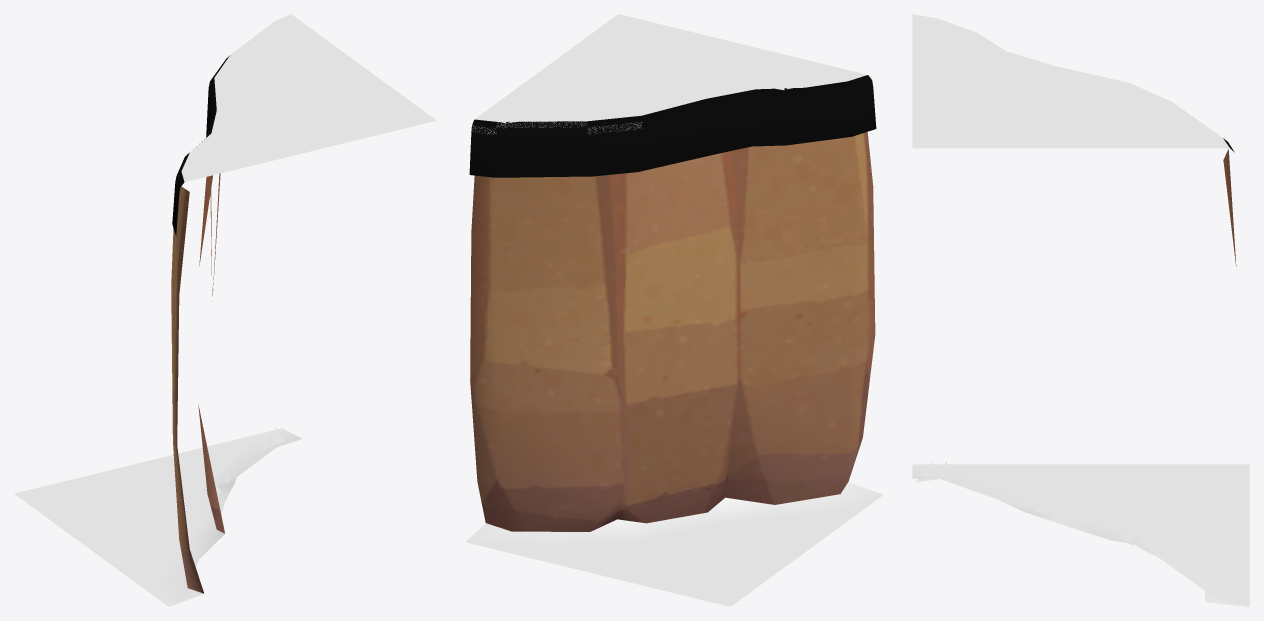
The picture shows the model from 3 angles, left to right: view 1: azimuth 30°, elevation 25°; view 2: azimuth 150°, elevation 25°; view 3: azimuth 270°, elevation 25°; orthographic projection. The views are drawn at different scales.
Visible parts, largest first — view 1: GrassT__mGrass, GrassB__mGrass, Cliff__mCliff, GrassOP__mGrassCliffXlu; view 2: Cliff__mCliff, GrassOP__mGrassCliffXlu, GrassB__mGrass, GrassT__mGrass; view 3: GrassT__mGrass, GrassB__mGrass, PGrassBD__mProcGrass.
Boxes of the visible parts, bbox=[...] form: GrassT__mGrass: bbox=[181, 14, 436, 181]; GrassB__mGrass: bbox=[14, 428, 302, 606]; Cliff__mCliff: bbox=[171, 173, 224, 593]; GrassOP__mGrassCliffXlu: bbox=[172, 55, 229, 236]; Cliff__mCliff: bbox=[470, 132, 875, 531]; GrassOP__mGrassCliffXlu: bbox=[469, 75, 876, 177]; GrassB__mGrass: bbox=[466, 482, 882, 606]; GrassT__mGrass: bbox=[472, 14, 867, 134]; GrassT__mGrass: bbox=[912, 14, 1229, 148]; GrassB__mGrass: bbox=[912, 464, 1249, 606]; PGrassBD__mProcGrass: bbox=[915, 460, 1214, 594].
Size of the model in its own units: 10 by 15.4 by 10.
Materials: 4 (1 with a texture image).
